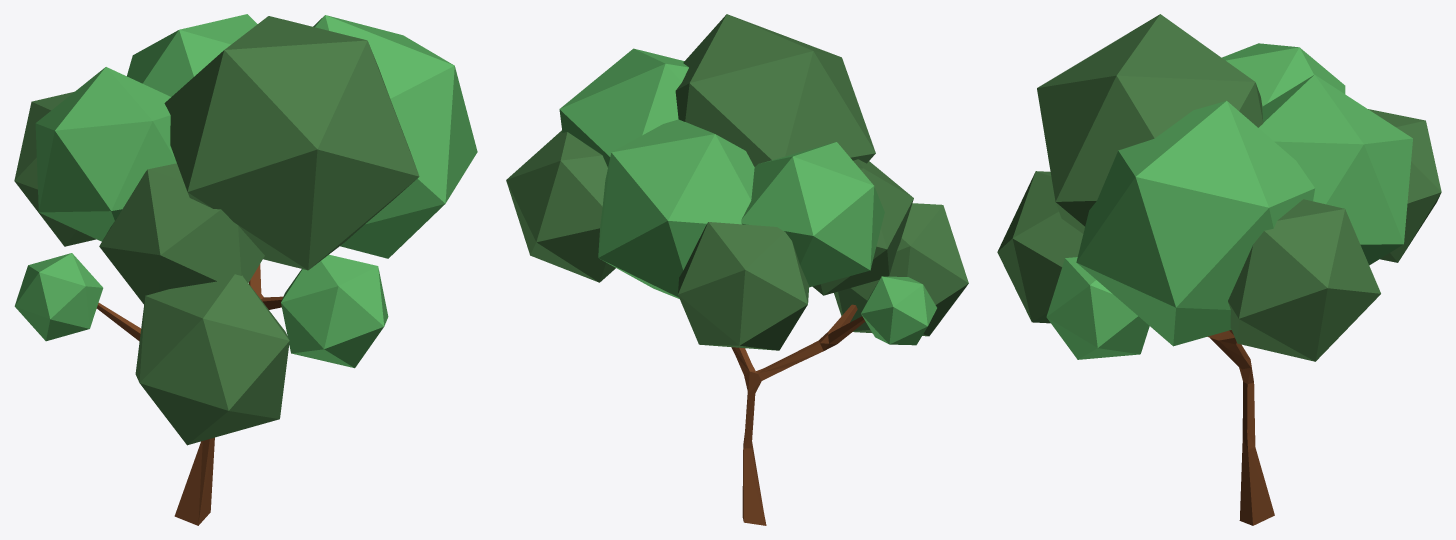
The model's file is tree02.fbx.
3 renders of one model, left to right at view 1: azimuth 30°, elevation 25°; view 2: azimuth 150°, elevation 25°; view 3: azimuth 270°, elevation 25°, orthographic. The views are drawn at different scales.
Visible parts, largest first — view 1: Icosphere.033, Icosphere.024, Icosphere.032, Icosphere.030, Icosphere.031, Icosphere.023, Icosphere.025, Icosphere.029, Cube.002, Icosphere.028; view 2: Icosphere.033, Icosphere.029, Icosphere.028, Icosphere.032, Icosphere.027, Icosphere.030, Icosphere.024, Cube.002, Icosphere.025, Icosphere.031; view 3: Icosphere.030, Icosphere.033, Icosphere.027, Icosphere.029, Icosphere.024, Icosphere.023, Cube.002, Icosphere.032, Icosphere.028.
Part boxes in pixels (<box>): Icosphere.033: <box>164,16,419,270</box>; Icosphere.024: <box>135,274,289,445</box>; Icosphere.032: <box>35,67,176,241</box>; Icosphere.030: <box>313,15,477,258</box>; Icosphere.031: <box>99,163,264,304</box>; Icosphere.023: <box>281,254,388,368</box>; Icosphere.025: <box>14,253,103,341</box>; Icosphere.029: <box>127,14,257,96</box>; Cube.002: <box>96,264,282,525</box>; Icosphere.028: <box>14,91,96,246</box>; Icosphere.033: <box>675,14,875,166</box>; Icosphere.029: <box>598,119,754,298</box>; Icosphere.028: <box>678,222,809,350</box>; Icosphere.032: <box>741,142,884,287</box>; Icosphere.027: <box>506,130,615,282</box>; Icosphere.030: <box>559,48,688,167</box>; Icosphere.024: <box>834,203,968,336</box>; Cube.002: <box>731,304,865,525</box>; Icosphere.025: <box>861,276,936,345</box>; Icosphere.031: <box>812,159,913,295</box>; Icosphere.030: <box>1076,101,1314,346</box>; Icosphere.033: <box>1037,14,1263,233</box>; Icosphere.027: <box>1228,199,1380,361</box>; Icosphere.029: <box>1259,74,1412,265</box>; Icosphere.024: <box>997,171,1083,323</box>; Icosphere.023: <box>1046,257,1149,359</box>; Cube.002: <box>1207,330,1274,525</box>; Icosphere.032: <box>1222,43,1345,106</box>; Icosphere.028: <box>1368,109,1441,262</box>.
Size of the model in its own units: 410 by 458 by 369.
